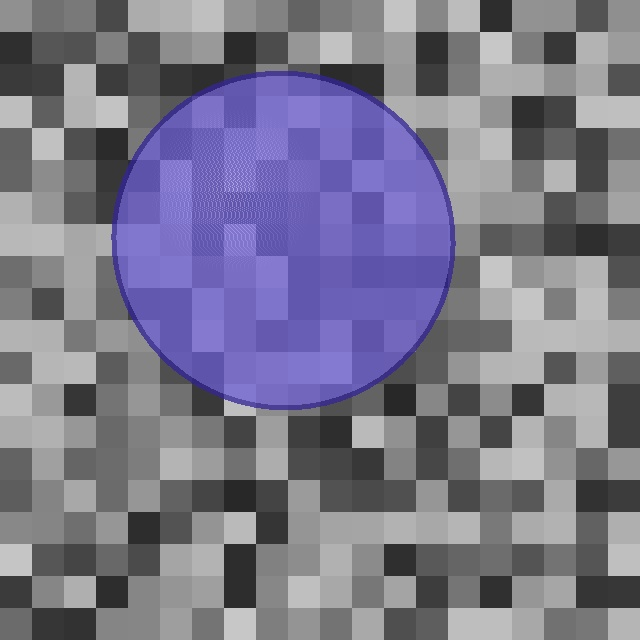lens: (114, 74, 452, 406)
